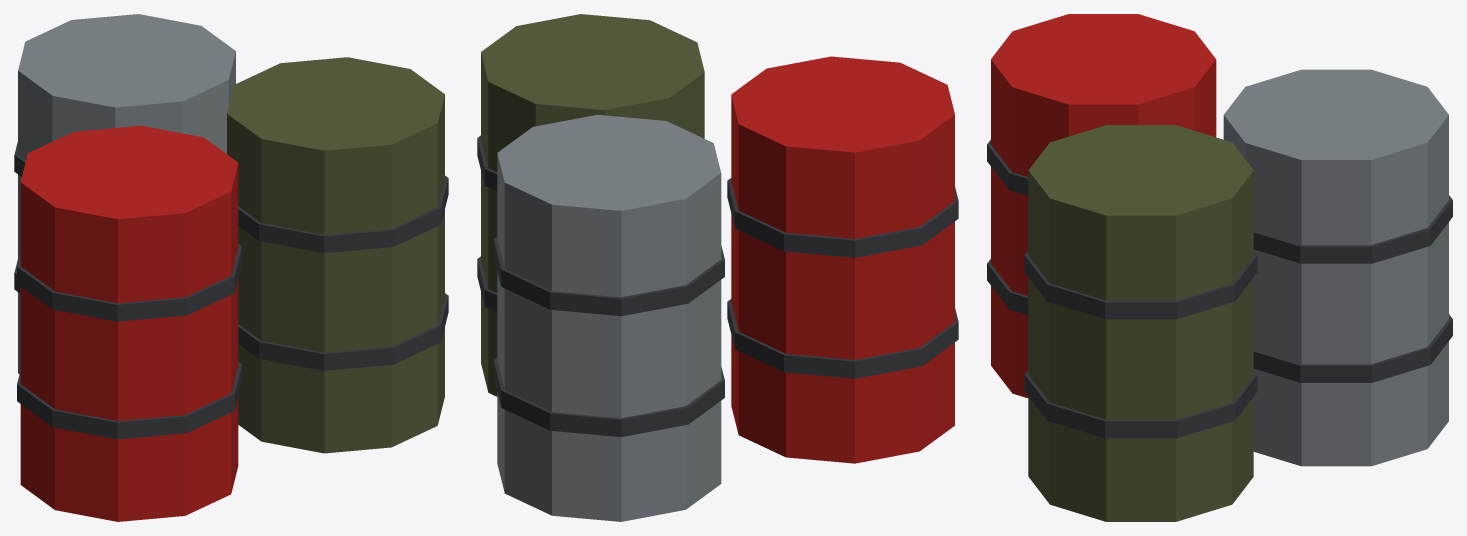
Rendered from barrels.glb.
3 views of the same model, side by side, from view 1: azimuth 30°, elevation 25°; view 2: azimuth 150°, elevation 25°; view 3: azimuth 270°, elevation 25° (orthographic). The views are drawn at different scales.
Parts seen in each view (by area): view 1: barrels; view 2: barrels; view 3: barrels.
Part boxes in pixels (x1,y1,x2,y2): barrels: (14,14,448,521); barrels: (477,14,958,521); barrels: (987,14,1452,521).
Bounding box in the file's own units: 1.29 × 0.9 × 1.24.
